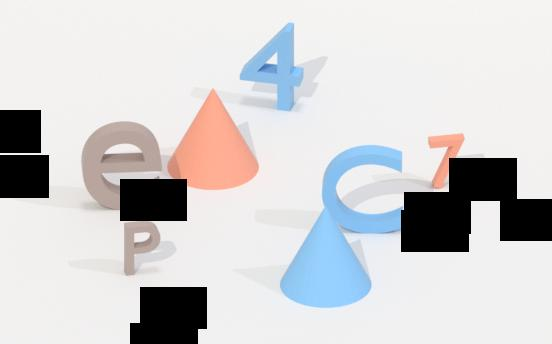4: (236, 13, 311, 114)
7: (420, 130, 469, 192)
c: (317, 142, 409, 238)
e: (70, 112, 168, 216)
non: (167, 81, 264, 191), (280, 207, 373, 314)
p: (118, 214, 166, 281)
